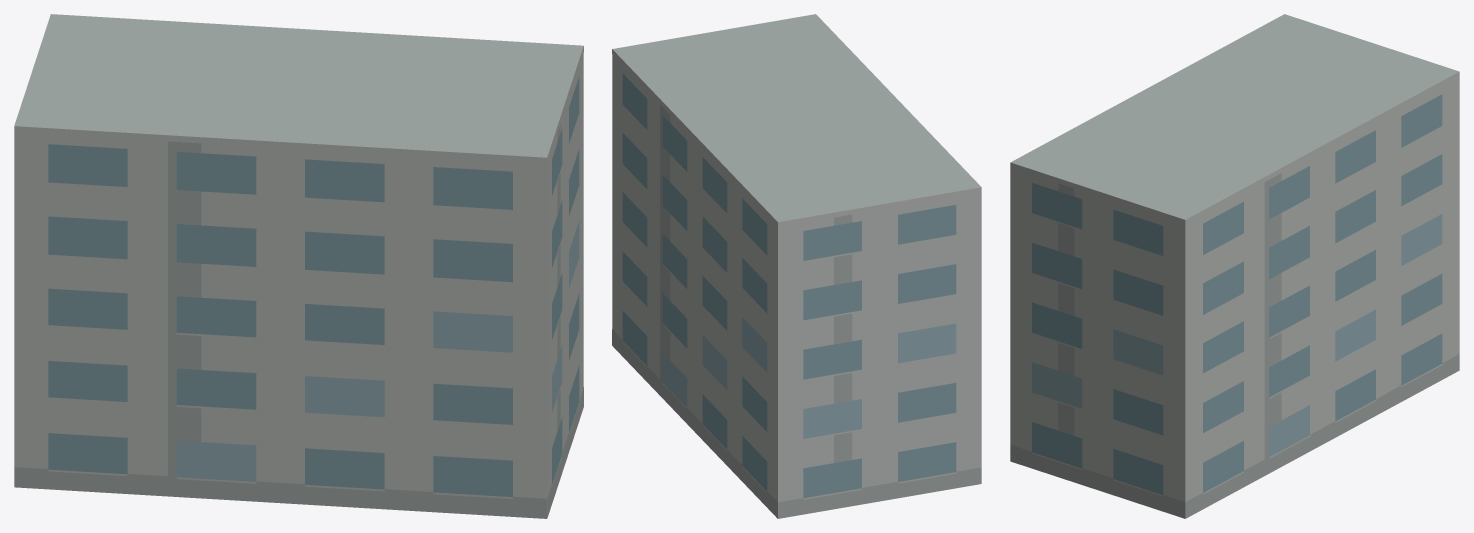
Rendered from survey-upis-32808863.glb.
3 views of the same model, side by side, from view 1: azimuth 30°, elevation 25°; view 2: azimuth 150°, elevation 25°; view 3: azimuth 270°, elevation 25° (orthographic). The views are drawn at different scales.
Visible parts, largest first — view 1: survey-upis-32808863.tmp; view 2: survey-upis-32808863.tmp; view 3: survey-upis-32808863.tmp.
Boxes of the visible parts, <box> form: survey-upis-32808863.tmp: <box>14,14,583,518</box>; survey-upis-32808863.tmp: <box>612,14,981,518</box>; survey-upis-32808863.tmp: <box>1010,14,1459,518</box>.
Size of the model in its own units: 21.13 by 14.3 by 19.48.
